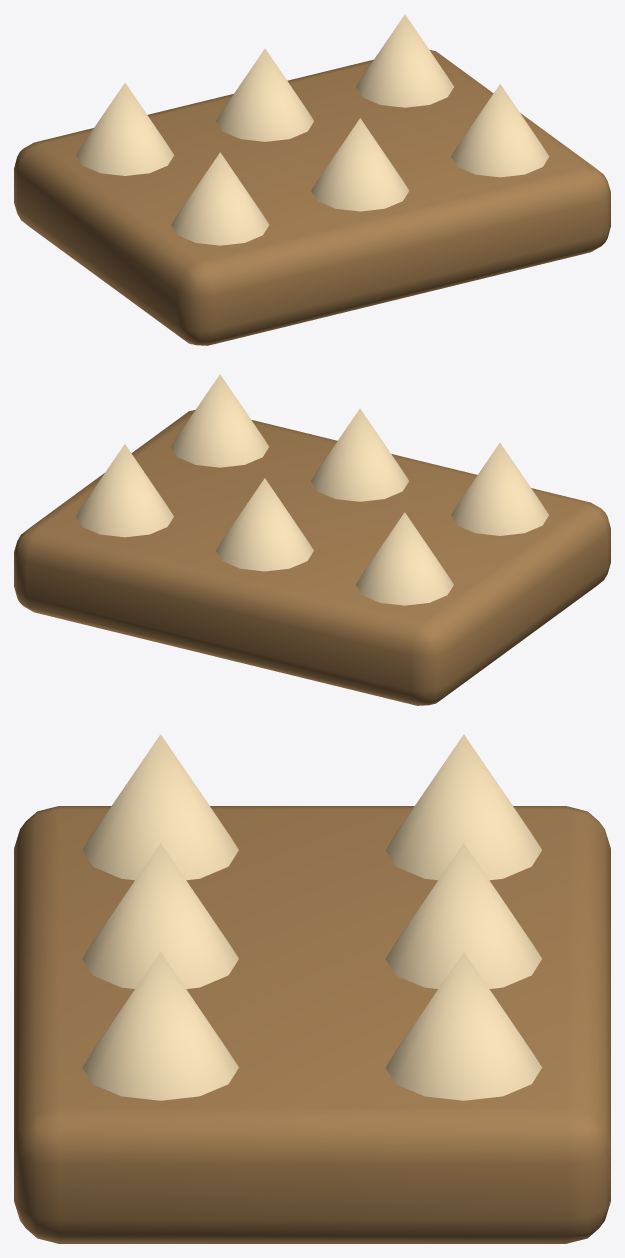
Rendered from Spike Trap_2.fbx.
3 views of the same model, one above another, from view 1: azimuth 30°, elevation 25°; view 2: azimuth 150°, elevation 25°; view 3: azimuth 270°, elevation 25° (orthographic). The views are drawn at different scales.
Visible parts, largest first — view 1: Spike Trap_2; view 2: Spike Trap_2; view 3: Spike Trap_2.
Boxes of the visible parts, x1,y1,x2,y2 form: Spike Trap_2: [14, 14, 610, 345]; Spike Trap_2: [14, 374, 610, 705]; Spike Trap_2: [14, 734, 610, 1243].
Size of the model in its own units: 0.4793 by 0.166 by 0.3618.
